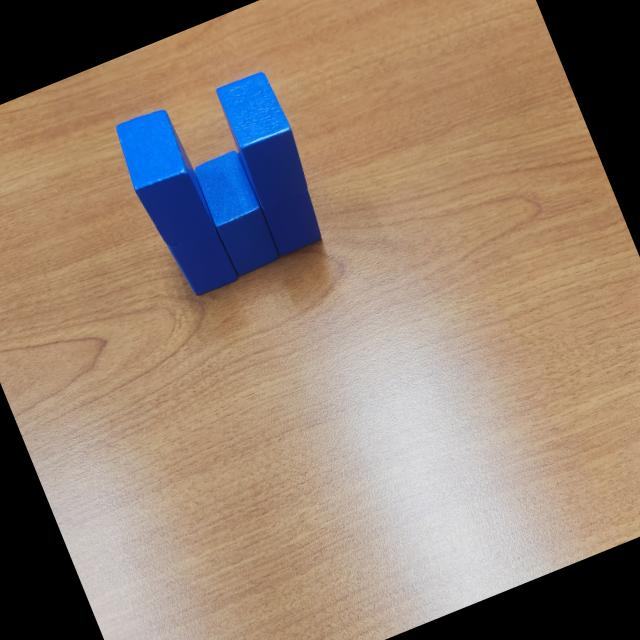blue: (108, 102, 220, 252), (212, 66, 316, 210), (190, 148, 284, 280), (237, 132, 328, 258), (166, 222, 238, 300)
